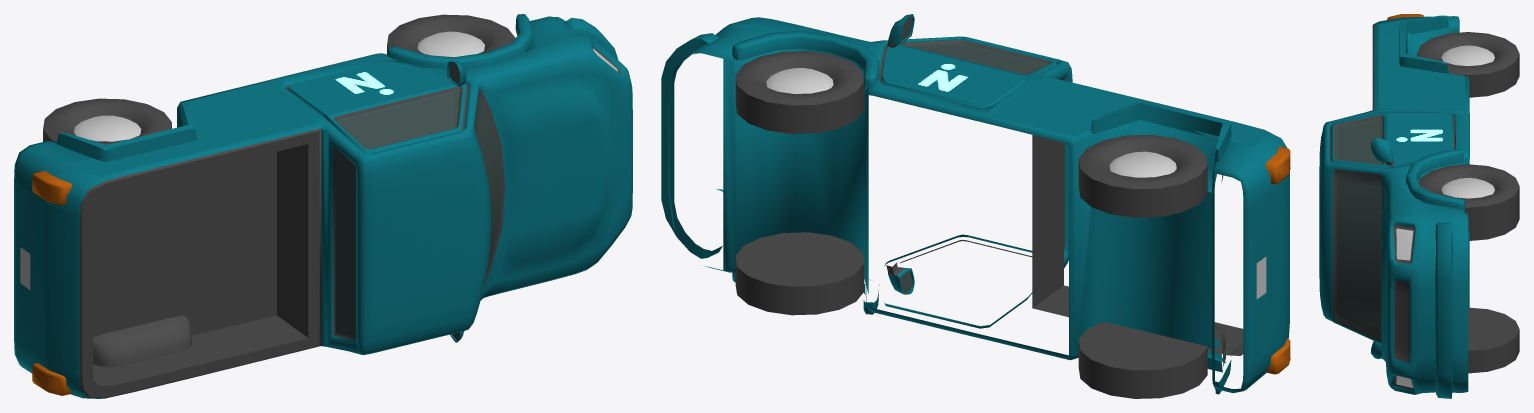
Rendered from truck.glb.
The picture shows the model from 3 angles, left to right: view 1: azimuth 30°, elevation 25°; view 2: azimuth 150°, elevation 25°; view 3: azimuth 270°, elevation 25°; orthographic projection. The views are drawn at different scales.
Parts seen in each view (by area): view 1: truck; view 2: truck; view 3: truck.
Part boxes in pixels (x1=…): truck: x1=14, y1=14, x2=632, y2=398; truck: x1=661, y1=14, x2=1290, y2=398; truck: x1=1319, y1=14, x2=1519, y2=398.
Size of the model in its own units: 5.29 by 2.36 by 1.94.
